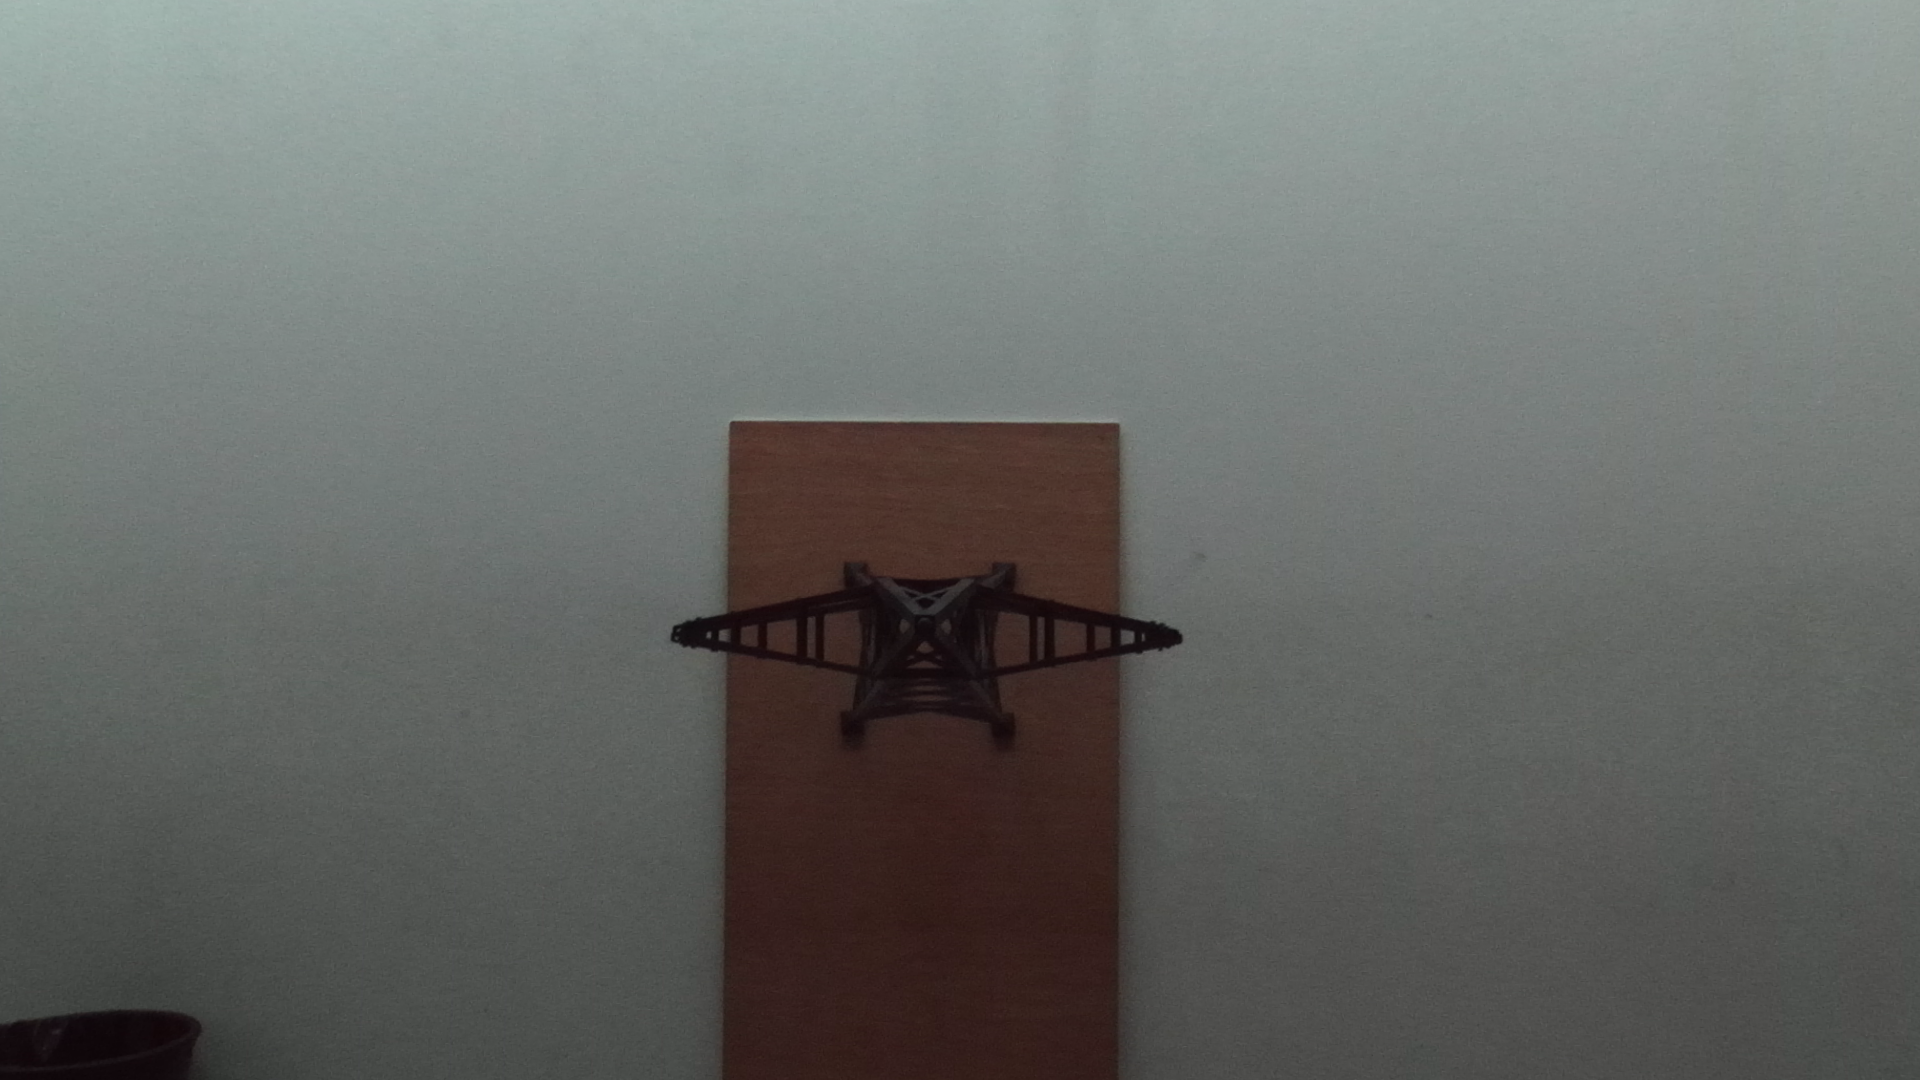pylon_phy: (669, 579, 1187, 676)
